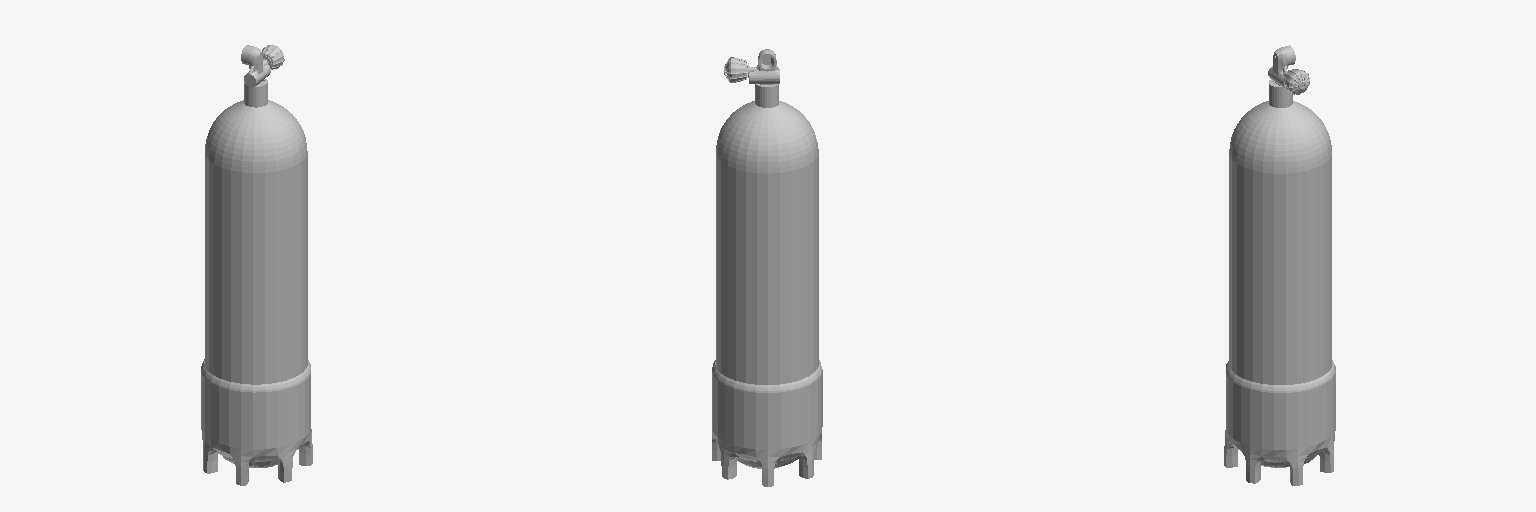
File: uploads_files_2306193_cylinder+final.obj
The picture shows the model from 3 angles: view 1: azimuth 30°, elevation 25°; view 2: azimuth 150°, elevation 25°; view 3: azimuth 270°, elevation 25°; orthographic projection.
Parts seen in each view (by area): view 1: Cylinder_1, Cylinder001_1, Valve_1; view 2: Cylinder_1, Cylinder001_1, Valve_1, Spindle_1; view 3: Cylinder_1, Cylinder001_1, Valve_1, Spindle_1.
Part boxes in pixels (x1,y1,x2,y2): Cylinder_1: (205,79,307,384); Cylinder001_1: (201,359,312,485); Valve_1: (241,45,270,86); Cylinder_1: (716,84,818,384); Cylinder001_1: (712,360,822,486); Valve_1: (749,49,779,85); Spindle_1: (724,57,756,82); Cylinder_1: (1229,79,1331,384); Cylinder001_1: (1224,360,1335,485); Valve_1: (1268,45,1295,89); Spindle_1: (1283,69,1310,94).
Size of the model in its own units: 7.09 by 29.1 by 7.1.